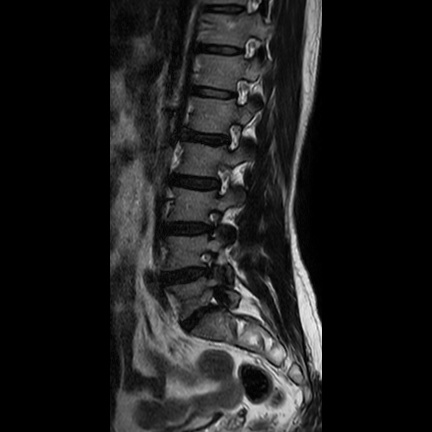RFS0: (206, 157, 232, 201), (219, 114, 245, 155)
RFS3: (190, 243, 223, 282), (198, 204, 224, 242)
